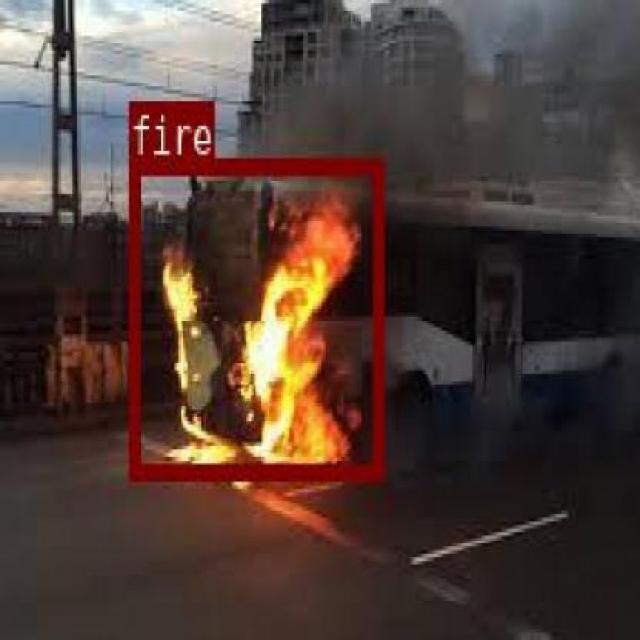Fire: (128, 155, 381, 477)
